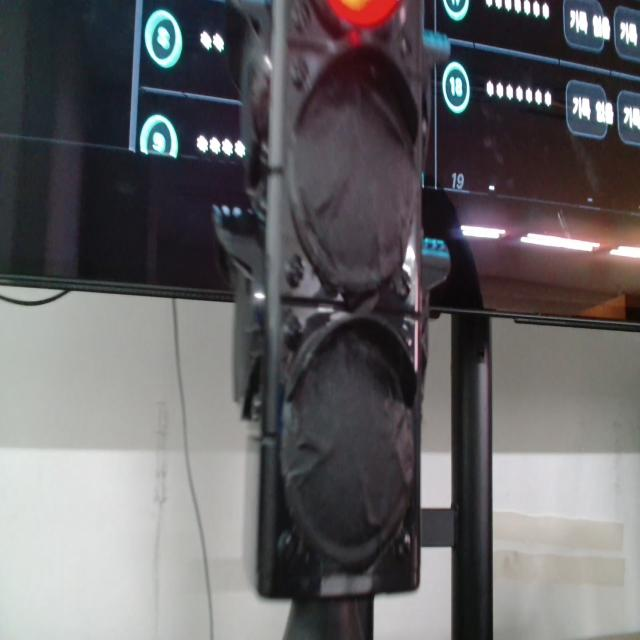green_light: (442, 62, 469, 113), (443, 0, 469, 21)
red_light: (328, 0, 400, 27)
